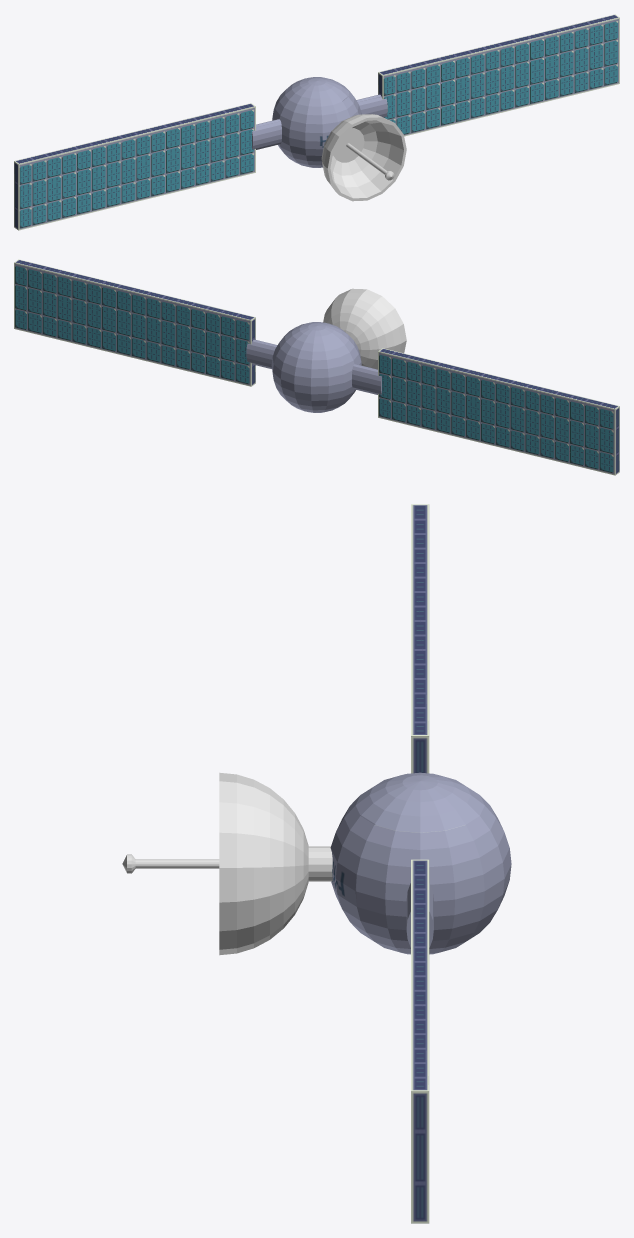
Rendered from Satelite.fbx.
3 views of the same model, one above another, from view 1: azimuth 30°, elevation 25°; view 2: azimuth 150°, elevation 25°; view 3: azimuth 270°, elevation 25° (orthographic). The views are drawn at different scales.
Parts seen in each view (by area): view 1: Sphere, Sphere.001; view 2: Sphere, Sphere.001; view 3: Sphere, Sphere.001.
Boxes of the visible parts, left/top/right/bottom form: Sphere: left=14, top=14, right=619, bottom=230; Sphere.001: left=321, top=114, right=406, bottom=201; Sphere: left=14, top=259, right=619, bottom=475; Sphere.001: left=323, top=288, right=406, bottom=369; Sphere: left=330, top=504, right=511, bottom=1223; Sphere.001: left=122, top=772, right=332, bottom=955.
Bounding box in the file's own units: 1520 × 200 × 426.
